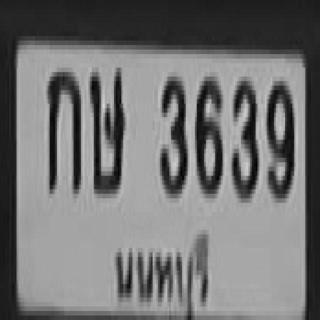A01: (46, 68, 79, 189)
A39: (88, 63, 123, 189)
N03: (158, 72, 186, 194), (230, 74, 258, 196)
N06: (193, 72, 221, 189)
N09: (265, 77, 292, 194)
P37: (108, 230, 216, 320)
